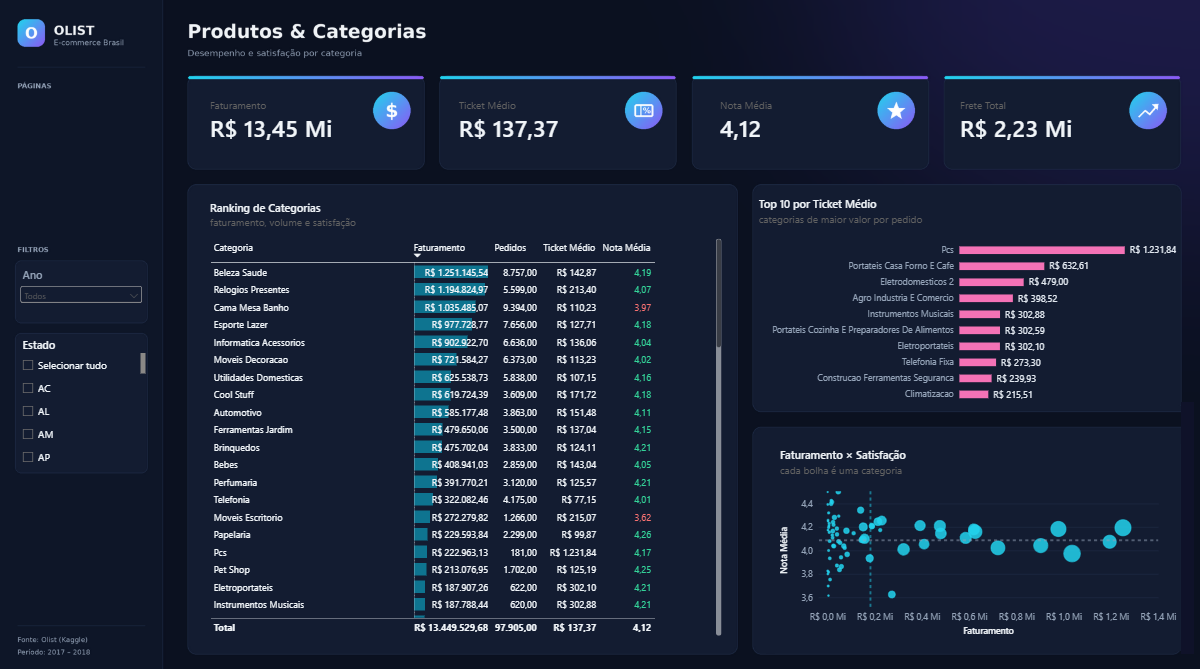

The dashboard page shown, as its layout file describes it:
{"tool":"powerbi","page":{"name":"Produtos","canvas":[1920,1080],"ordinal":1},"visuals":[{"type":"cardVisual","fields":{"Data":["_Medidas.Faturamento"]},"box":[320,135,275,115],"z":0},{"type":"cardVisual","fields":{"Data":["_Medidas.Ticket Médio"]},"box":[717.5,135,242.5,115],"z":1000},{"type":"cardVisual","fields":{"Data":["_Medidas.Frete Total"]},"box":[1520,135,252.5,115],"z":2000},{"type":"cardVisual","fields":{"Data":["_Medidas.Nota Média"]},"box":[1135,135,237.5,115],"z":3000},{"type":"tableEx","title":"Ranking de Categorias","fields":{"Values":["dProdutos.Categoria","_Medidas.Faturamento","_Medidas.Pedidos","_Medidas.Ticket Médio","_Medidas.Nota Média"]},"box":[320.3,305.8,850.5,727.5],"z":6000},{"type":"clusteredBarChart","title":"Top 10 por Ticket Médio","fields":{"Category":["dProdutos.Categoria"],"Y":["_Medidas.Ticket Médio"]},"box":[1198,300,700,364],"z":7000},{"type":"scatterChart","title":"Faturamento × Satisfação","fields":{"Category":["dProdutos.Categoria"],"Size":["_Medidas.Pedidos"],"X":["_Medidas.Faturamento"],"Y":["_Medidas.Nota Média"]},"box":[1232,702,666,332],"z":8000},{"type":"pageNavigator","box":[14,172,232,196],"z":8001},{"type":"slicer","fields":{"Values":["dCalendario.Ano"]},"box":[28,428,204,88],"z":8002},{"type":"slicer","fields":{"Values":["dClientes.customer_state"]},"box":[27.1,539.3,204.5,211.7],"z":8003}]}

Visuals, with their boxes on the page's 1920x1080 design canvas (x1, y1, x2, y2). These are canvas units, not pixel positions in the 1200x669 screenshot, which may show the page scaled, cropped or inside an application window:
cardVisual - _Medidas.Faturamento: bbox(320, 135, 595, 250)
cardVisual - _Medidas.Ticket Médio: bbox(718, 135, 960, 250)
cardVisual - _Medidas.Frete Total: bbox(1520, 135, 1772, 250)
cardVisual - _Medidas.Nota Média: bbox(1135, 135, 1372, 250)
"Ranking de Categorias" tableEx: bbox(320, 306, 1171, 1033)
"Top 10 por Ticket Médio" clusteredBarChart: bbox(1198, 300, 1898, 664)
"Faturamento × Satisfação" scatterChart: bbox(1232, 702, 1898, 1034)
pageNavigator: bbox(14, 172, 246, 368)
slicer - dCalendario.Ano: bbox(28, 428, 232, 516)
slicer - dClientes.customer_state: bbox(27, 539, 232, 751)
